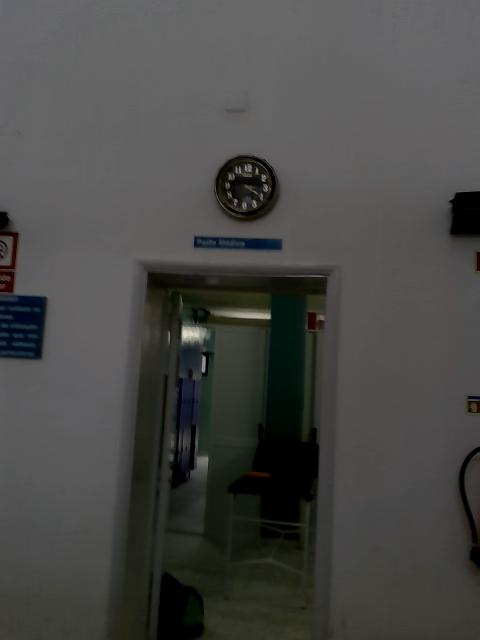open_door: (104, 258, 344, 639)
